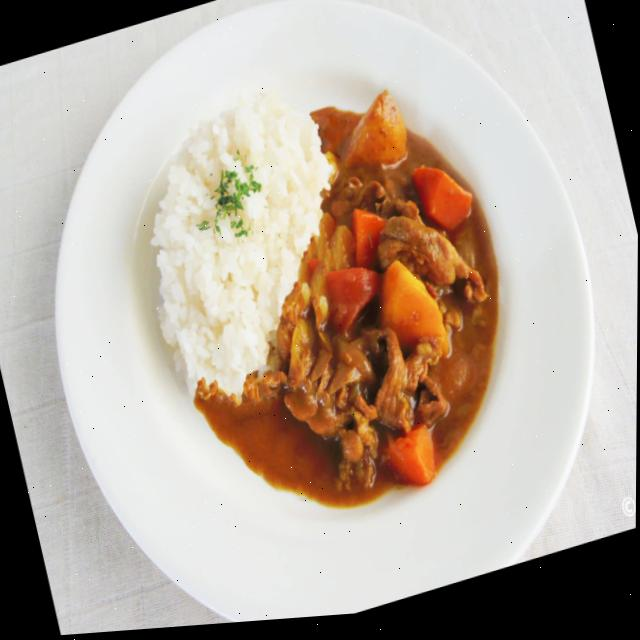Wet: (110, 33, 555, 566)
